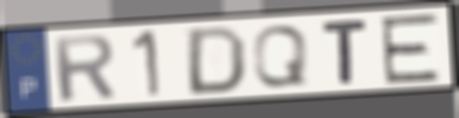1: (129, 28, 162, 100)
D: (184, 23, 250, 97)
E: (377, 11, 442, 86)
Q: (250, 23, 310, 89)
R: (49, 32, 119, 104)
T: (319, 17, 371, 86)
